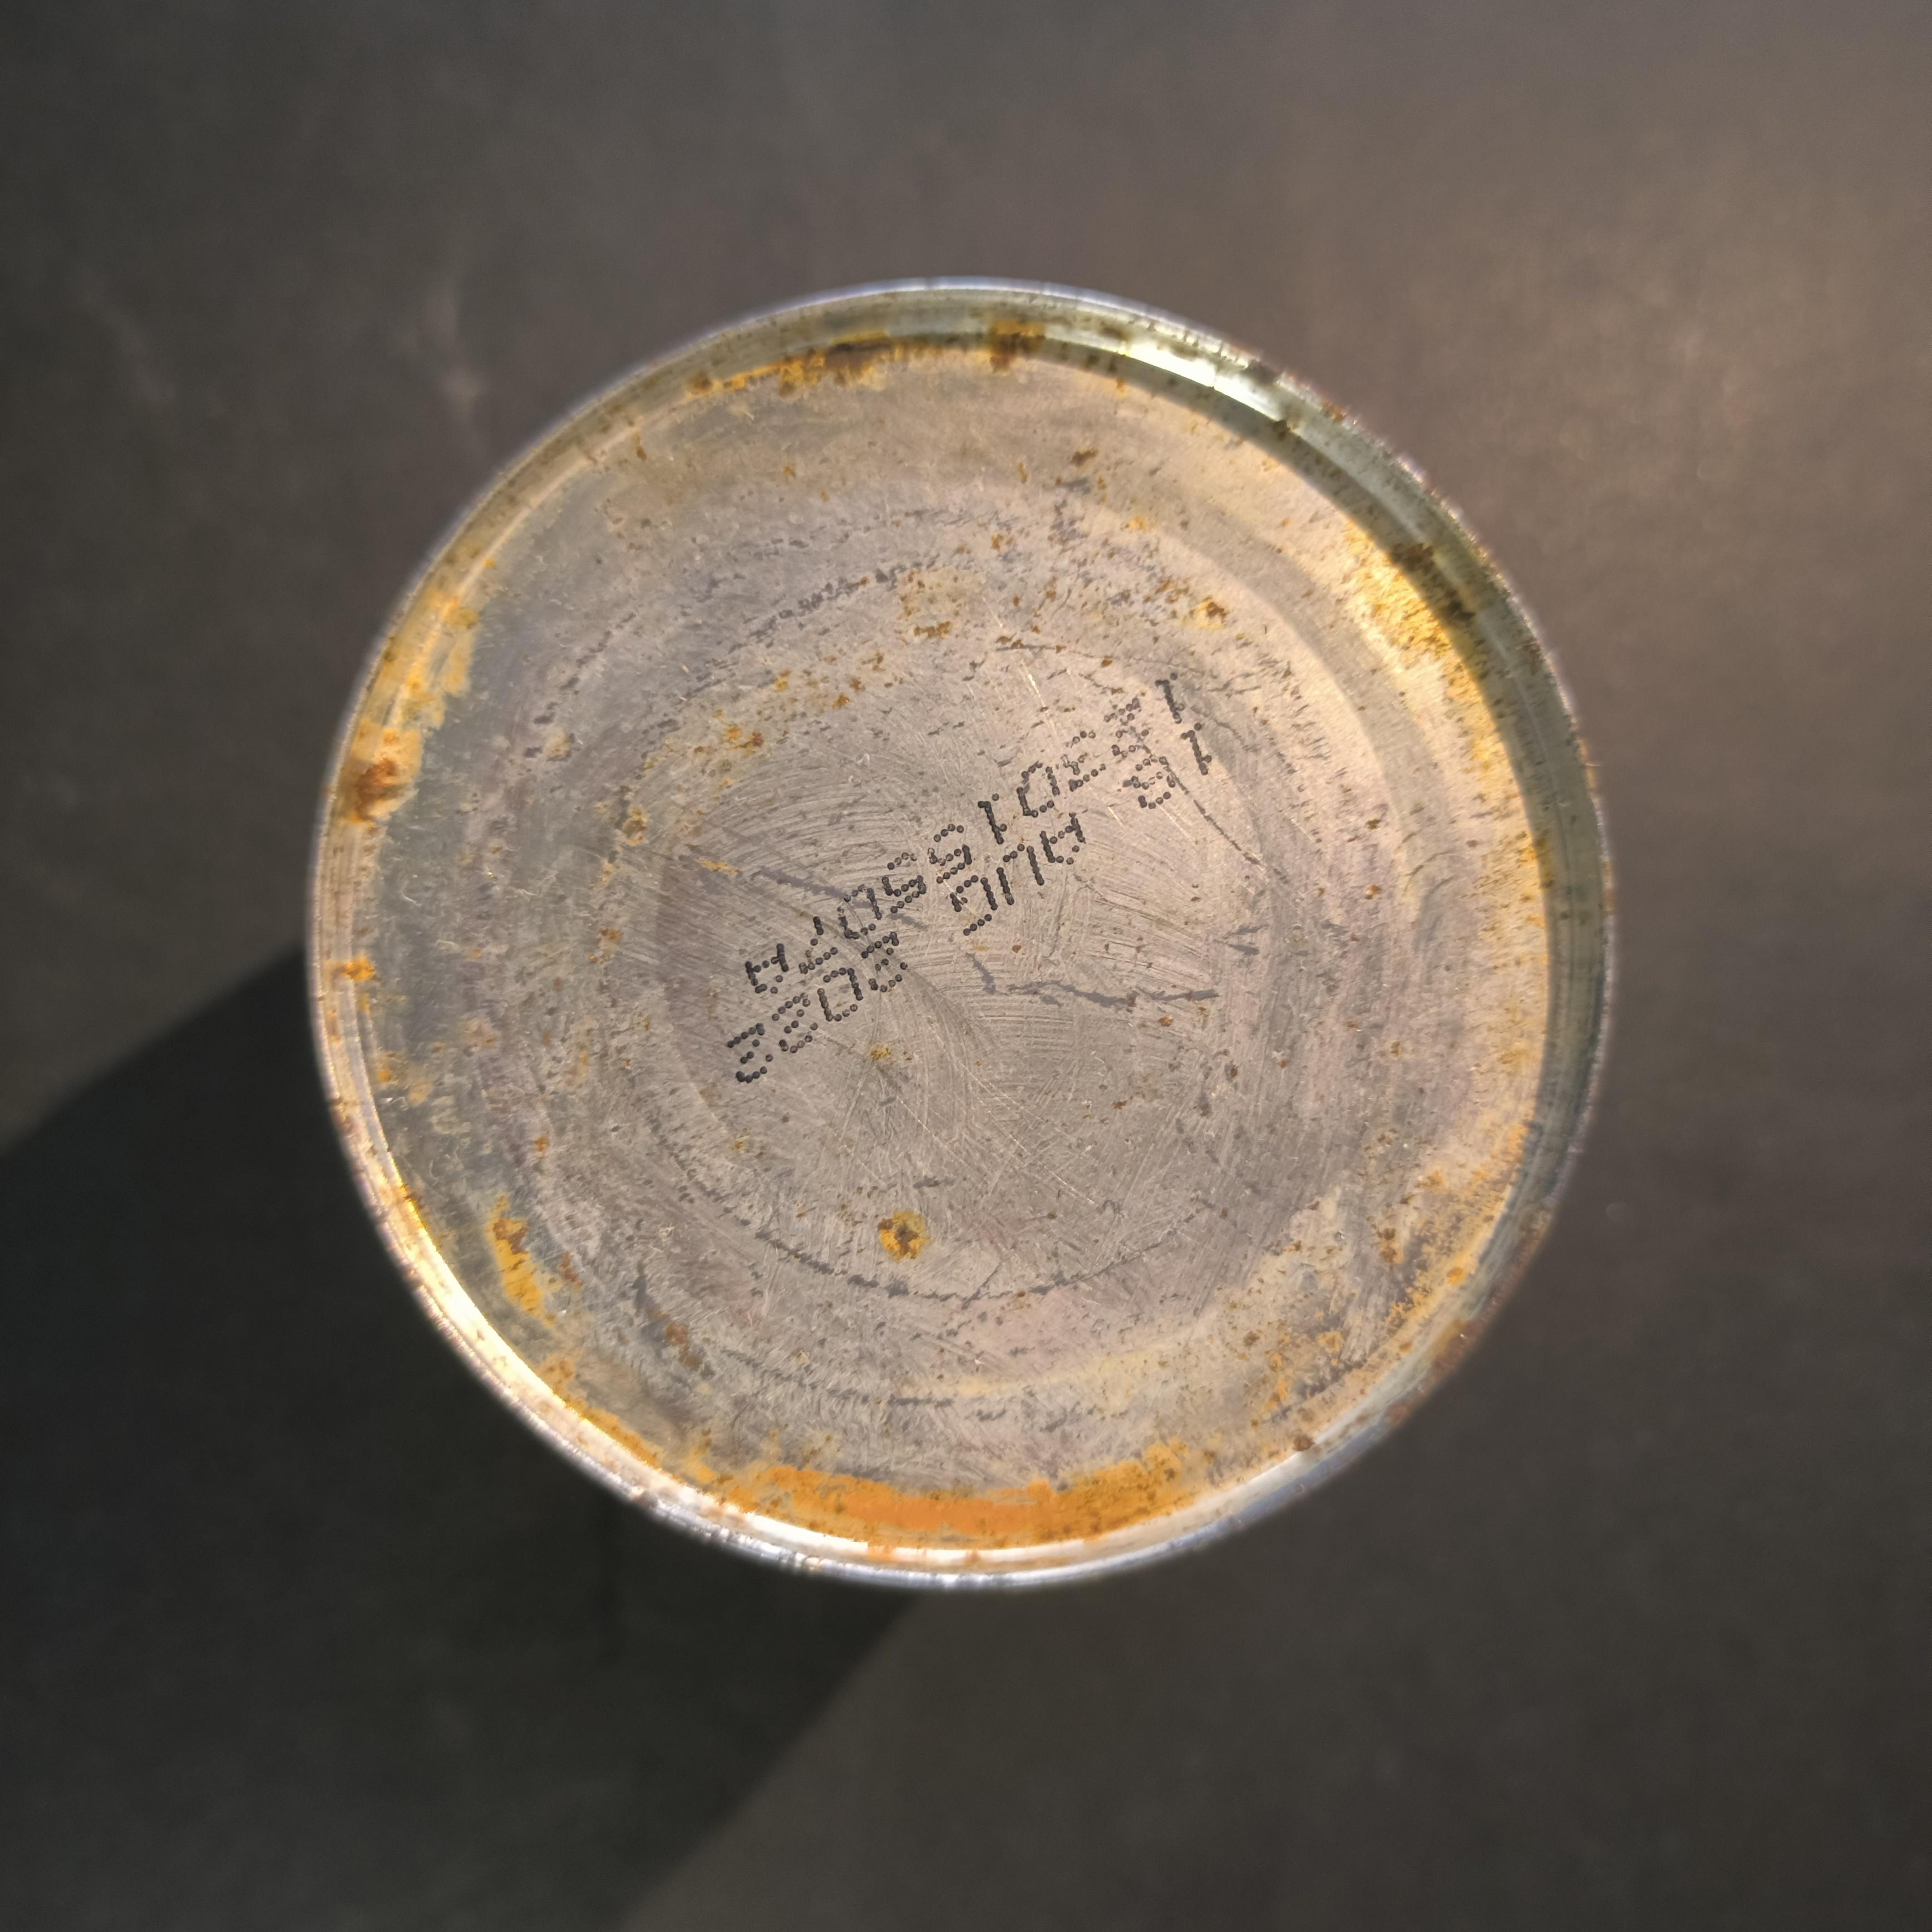Major Defect: (299, 270, 1625, 1600)
